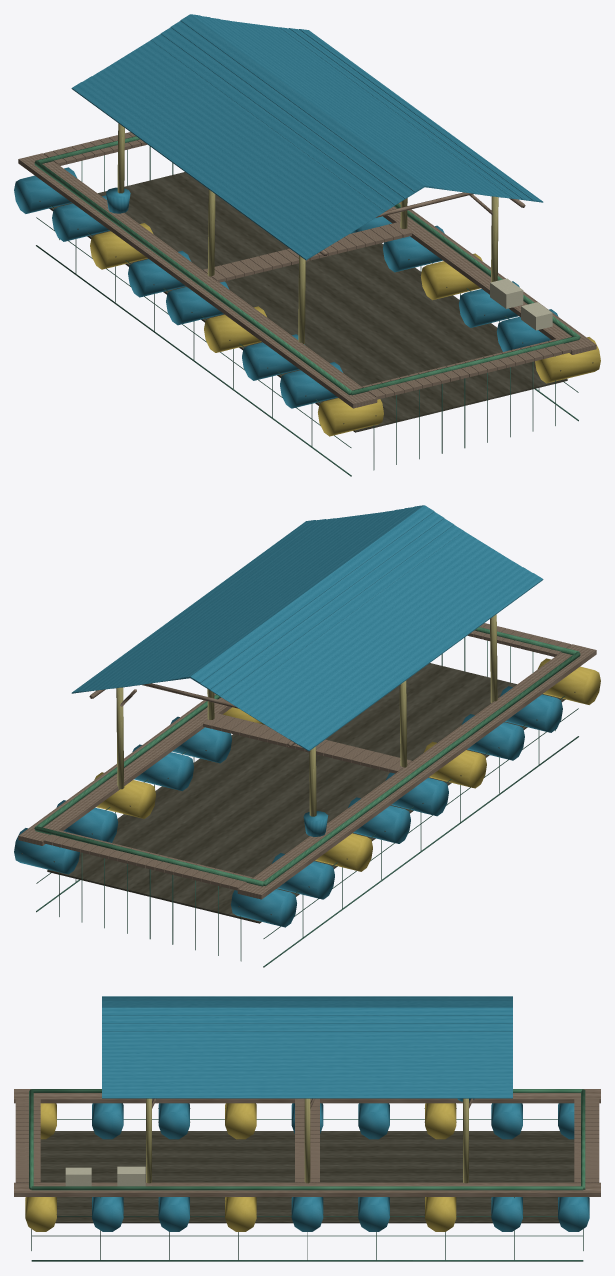
Rendered from bung-raft-3-blue.glb.
3 views of the same model, one above another, from view 1: azimuth 30°, elevation 25°; view 2: azimuth 150°, elevation 25°; view 3: azimuth 270°, elevation 25° (orthographic). The views are drawn at different scales.
Visible parts, largest first — view 1: bung-raft-3-blue; view 2: bung-raft-3-blue; view 3: bung-raft-3-blue.
Part boxes in pixels (left/top/right/bottom): bung-raft-3-blue: left=14, top=14, right=600, bottom=476; bung-raft-3-blue: left=14, top=505, right=600, bottom=967; bung-raft-3-blue: left=14, top=996, right=600, bottom=1261.
Bounding box in the file's own units: 4.94 × 4.17 × 10.8.
Materials: 1 (1 with a texture image).
